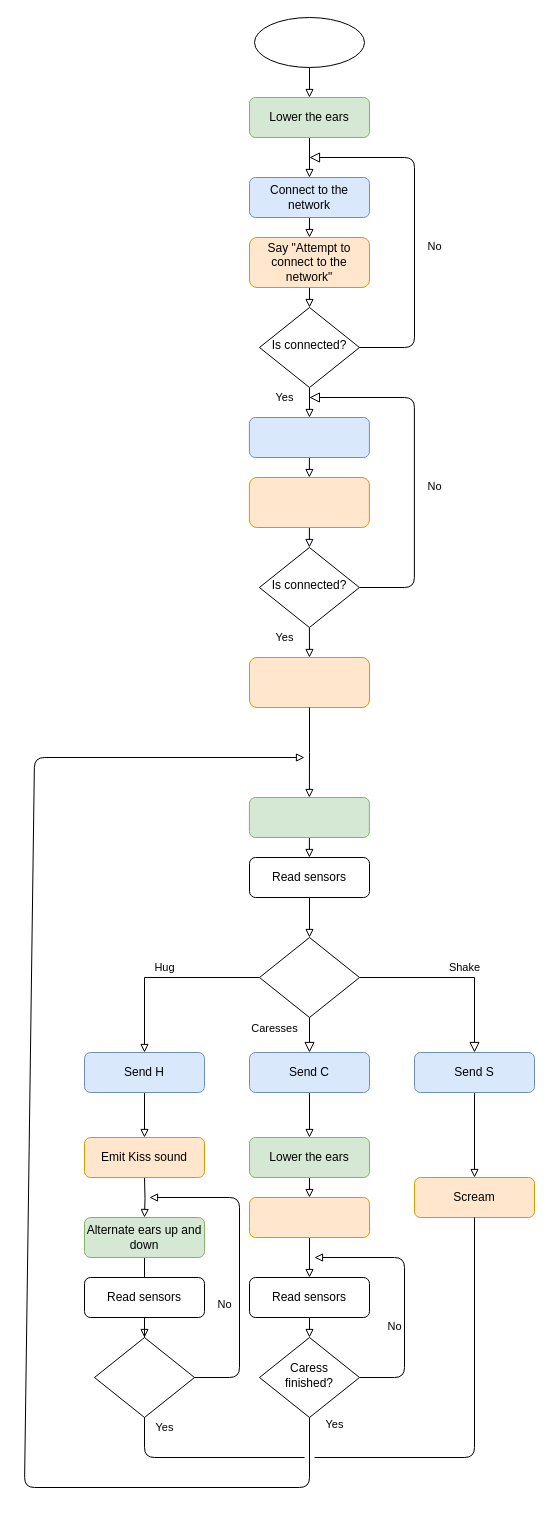
Some shapes in this 552 by 1513 pixel diagram are drawn without their labels. Here are the shapes that lost their labels. From the top down, the centre of each, then its label:
(x=309, y=42): START
(x=308, y=437): Connect to the Jacket
(x=308, y=502): Say "Attempt to connect to the Jacket"
(x=309, y=682): Say "P'hug is connected"
(x=308, y=817): Raise both ears
(x=309, y=977): Sensor values
(x=309, y=1217): Emit relaxed sound
(x=144, y=1377): Hug finished?
